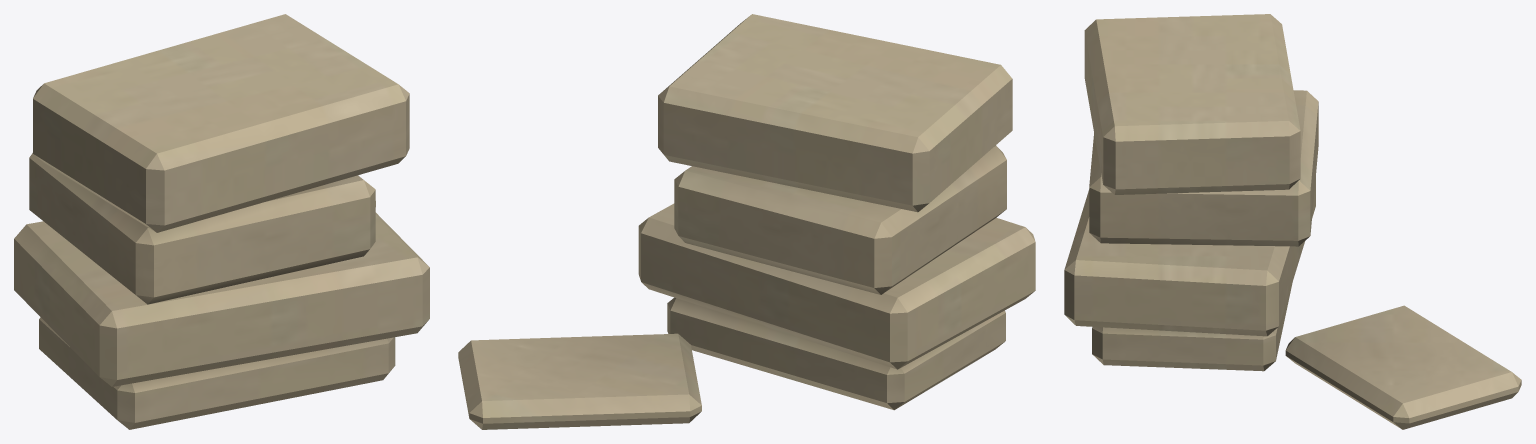
File: p_books.glb
3 renders of one model, left to right at view 1: azimuth 30°, elevation 25°; view 2: azimuth 150°, elevation 25°; view 3: azimuth 270°, elevation 25°, orthographic. The views are drawn at different scales.
Visible parts, largest first — view 1: books; view 2: books; view 3: books.
Boxes of the visible parts, x1,y1,x2,y2 form: books: [14, 14, 429, 429]; books: [458, 14, 1035, 429]; books: [1064, 14, 1521, 429].
Size of the model in its own units: 0.4536 by 0.2816 by 0.4702.
Materials: 1 (1 with a texture image).
